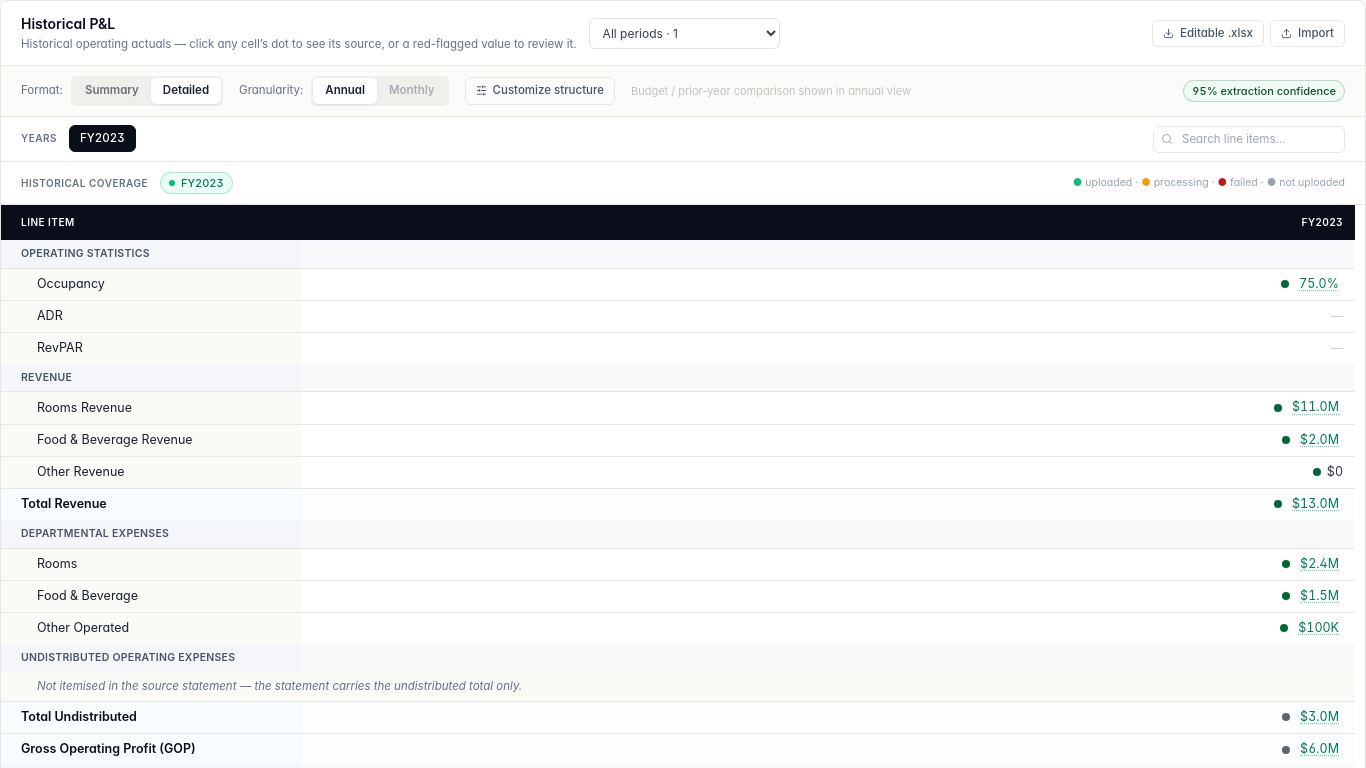
Test: Historicals worksheet — a $5 Rooms Revenue correction flows through (E-012) › saves the edit at source, refetches THAT statement, and reports Rooms Revenue +$5; the stated Total Revenue does not re-sum (FON-90)
Click the button named "Extracted — click to see its source" at (1316, 408), box [1288,398,1343,417]
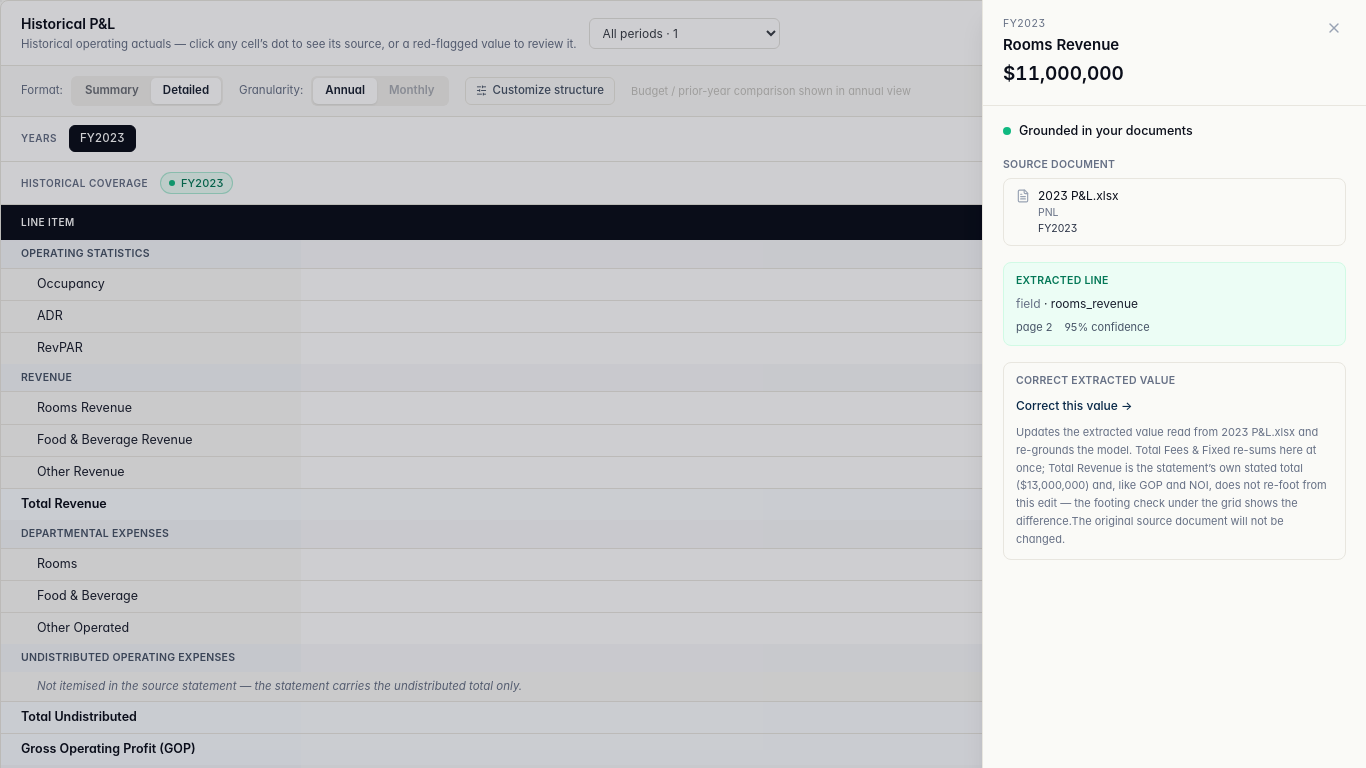
Click the button "Correct this value →" at (1074, 406), box [1016,397,1132,415]
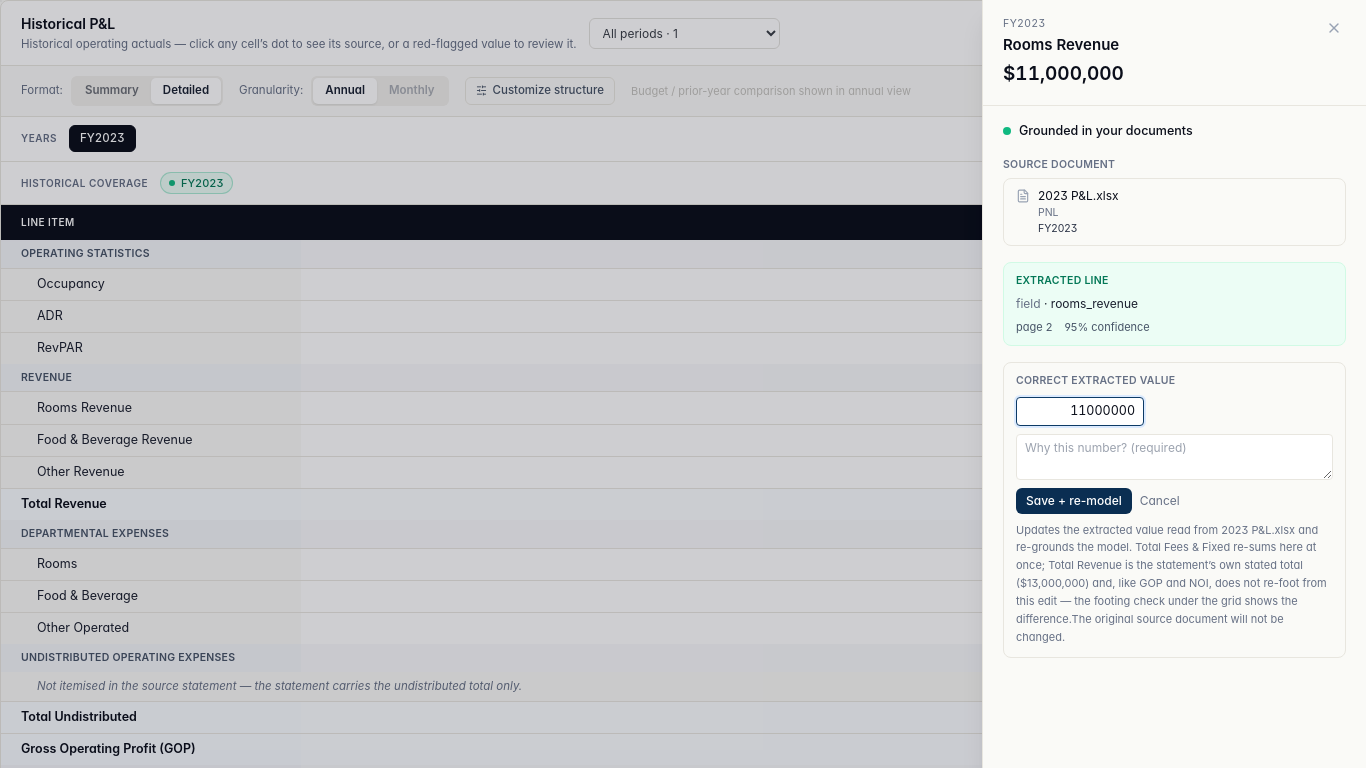
Replace the text in the field with "11000005" at (1080, 411), box [1016,397,1144,426]
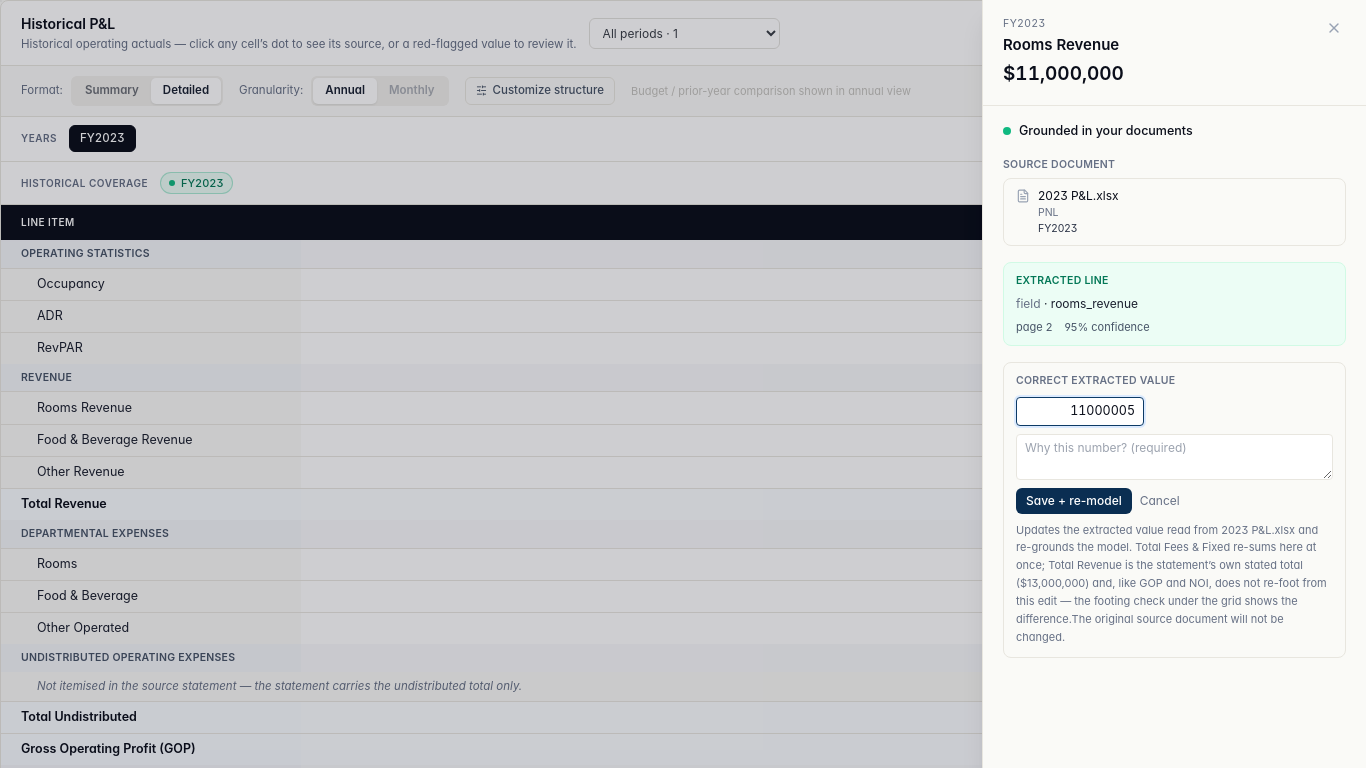
Type "Ledger shows the restated figure" into the text box with test id "field-correction-note" at (1174, 456), box [1016,434,1333,480]
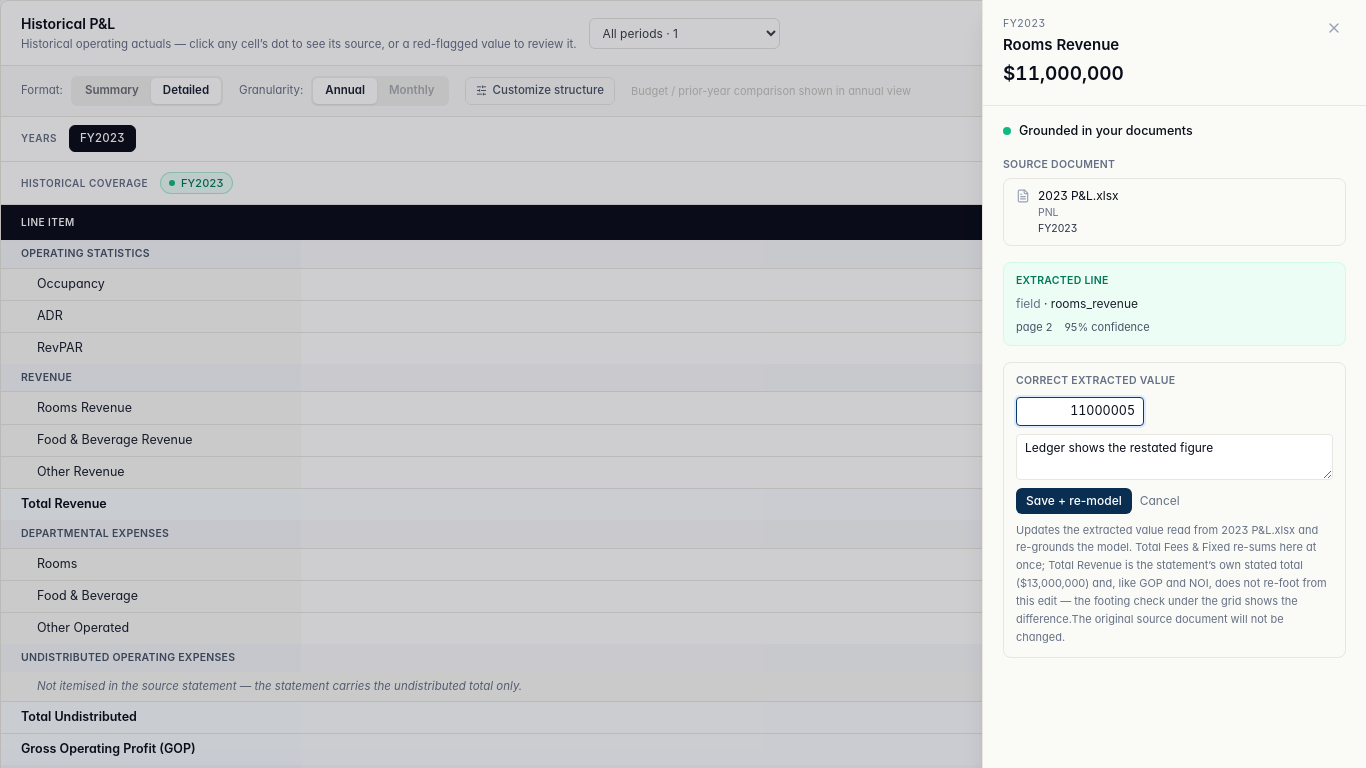
Click the button "Save + re-model" at (1074, 500), box [1016,488,1132,514]
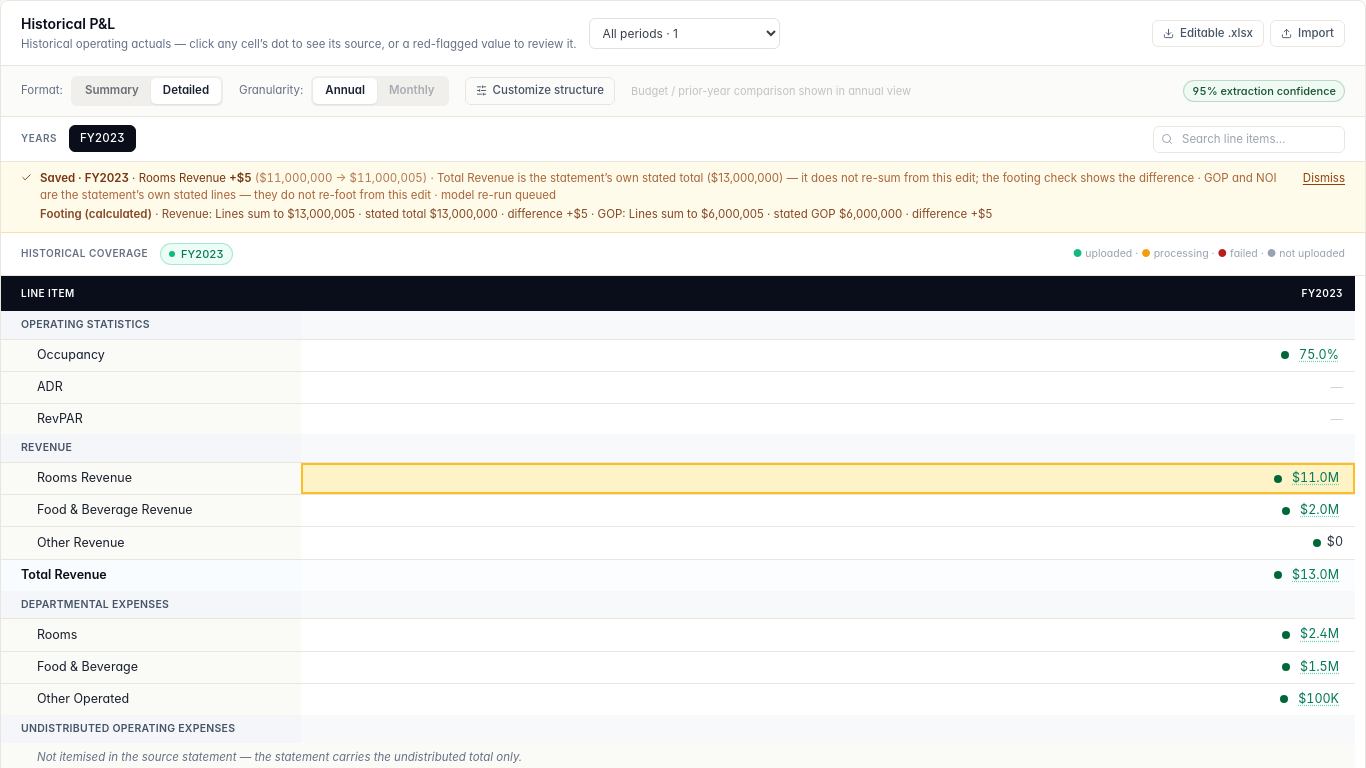
Expected: the message with test id "worksheet-propagation" shows "Saved · FY2023", [1,162,1365,233]
Expected: the text with test id "worksheet-propagation-stated-total" shows "Total Revenue is the statement’s own stated total ($13,000,000) — it does not re-sum from this edit; the footing check shows the difference", [427,171,1194,185]
Expected: the message with test id "worksheet-propagation" shows "GOP and NOI are the statement’s own stated lines — they do not re-foot from this edit", [40,171,1277,202]
